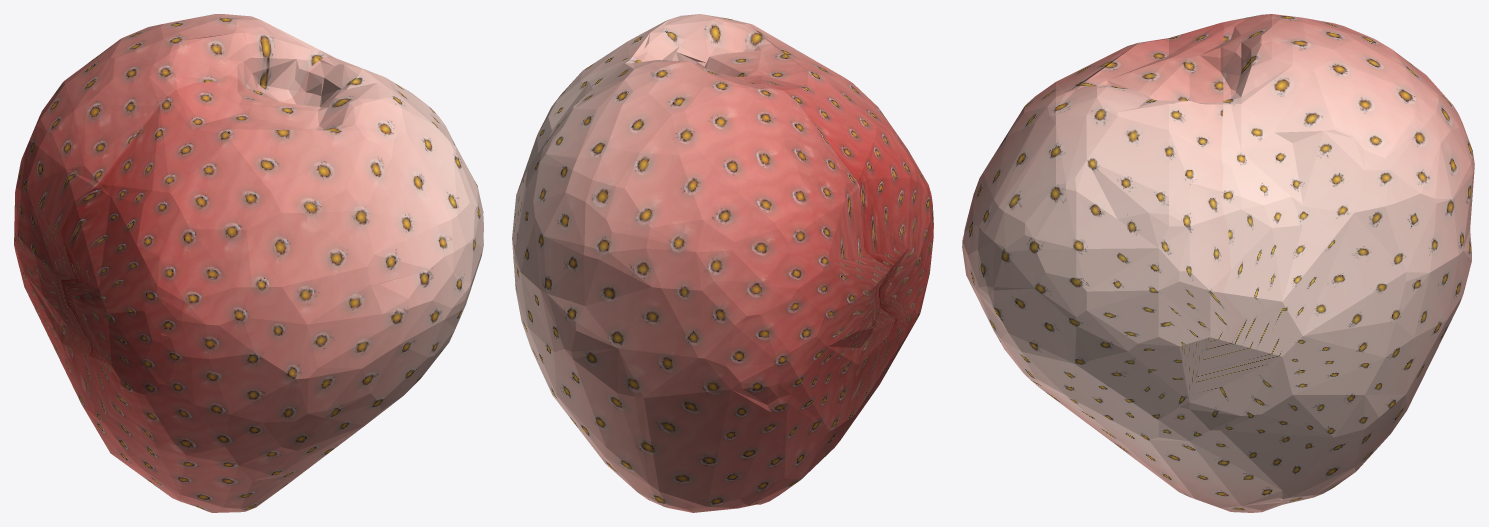
3 renders of one model, left to right at view 1: azimuth 30°, elevation 25°; view 2: azimuth 150°, elevation 25°; view 3: azimuth 270°, elevation 25°, orthographic. The views are drawn at different scales.
Visible parts, largest first — view 1: _001_Meshed; view 2: _001_Meshed; view 3: _001_Meshed.
Part boxes in pixels (left/top/right/bottom): _001_Meshed: left=14, top=14, right=483, bottom=512; _001_Meshed: left=512, top=14, right=933, bottom=512; _001_Meshed: left=962, top=14, right=1474, bottom=512.
Size of the model in its own units: 0.0964 by 0.1104 by 0.1128.
Materials: 1 (1 with a texture image).
